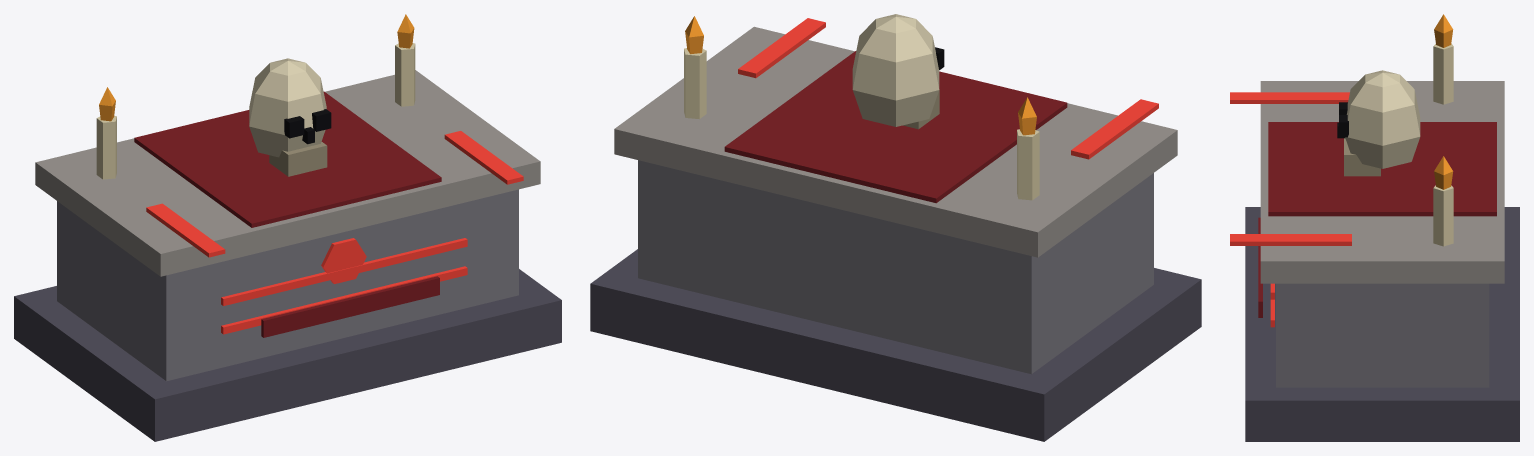
File: altar_ritual.fbx
The picture shows the model from 3 angles, left to right: view 1: azimuth 30°, elevation 25°; view 2: azimuth 150°, elevation 25°; view 3: azimuth 270°, elevation 25°; orthographic projection. The views are drawn at different scales.
Parts seen in each view (by area): view 1: altar_ritual; view 2: altar_ritual; view 3: altar_ritual.
Boxes of the visible parts, box(x1,y1,x2,y2) form: altar_ritual: box(14, 14, 561, 441); altar_ritual: box(590, 14, 1201, 441); altar_ritual: box(1230, 14, 1519, 441).
Bounding box in the file's own units: 3 × 1.97 × 1.9.
